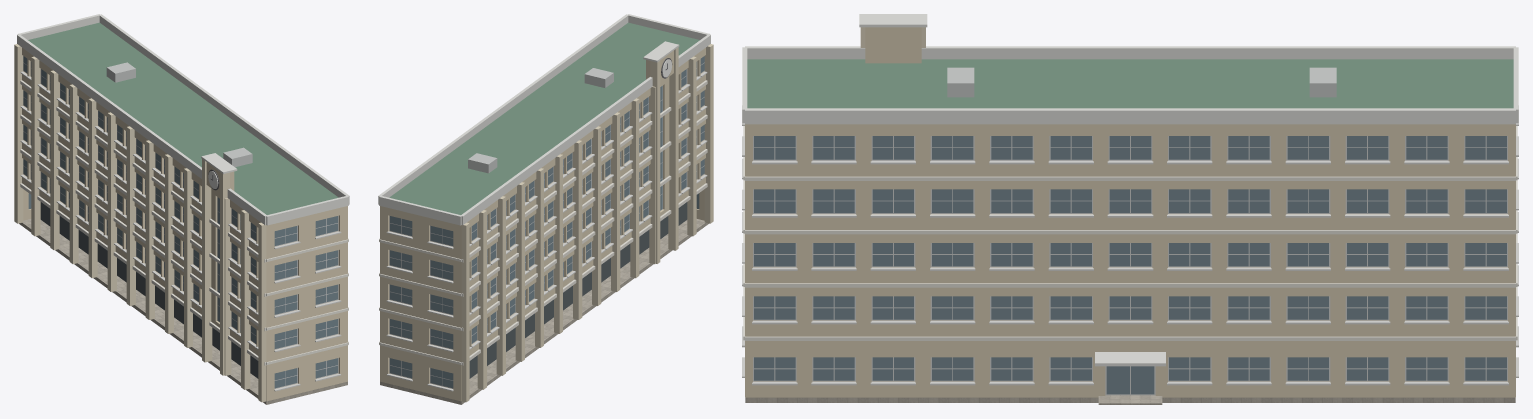
3 renders of one model, left to right at view 1: azimuth 30°, elevation 25°; view 2: azimuth 150°, elevation 25°; view 3: azimuth 270°, elevation 25°, orthographic. The views are drawn at different scales.
Parts seen in each view (by area): view 1: main-west__pier, main-west__paint, main-west__roof, main-west__glass, main-west__cap, main-west__band, main-west__stone, main-west__sill, main-west__frame, main-west__pilotis-glass, main-west__plant, main-west__stairglass; view 2: main-west__pier, main-west__paint, main-west__roof, main-west__glass, main-west__cap, main-west__band, main-west__stone, main-west__sill, main-west__frame, main-west__pilotis-glass, main-west__plant, main-west__stairglass; view 3: main-west__paint, main-west__glass, main-west__roof, main-west__cap, main-west__frame, main-west__band, main-west__sill, main-west__stone, main-west__plant.
Part boxes in pixels (left/top/right/bottom): main-west__pier: left=14, top=44, right=266, bottom=402; main-west__paint: left=22, top=48, right=347, bottom=401; main-west__roof: left=28, top=22, right=338, bottom=214; main-west__glass: left=23, top=56, right=337, bottom=388; main-west__cap: left=17, top=14, right=349, bottom=225; main-west__band: left=20, top=80, right=348, bottom=365; main-west__stone: left=19, top=219, right=347, bottom=404; main-west__sill: left=20, top=71, right=341, bottom=391; main-west__frame: left=23, top=61, right=338, bottom=388; main-west__pilotis-glass: left=40, top=202, right=258, bottom=378; main-west__plant: left=106, top=62, right=252, bottom=167; main-west__stairglass: left=217, top=197, right=219, bottom=321; main-west__pier: left=461, top=44, right=713, bottom=402; main-west__paint: left=380, top=48, right=705, bottom=401; main-west__roof: left=389, top=22, right=699, bottom=214; main-west__glass: left=390, top=56, right=704, bottom=388; main-west__cap: left=378, top=14, right=710, bottom=225; main-west__band: left=379, top=80, right=707, bottom=365; main-west__stone: left=380, top=219, right=708, bottom=404; main-west__sill: left=386, top=71, right=707, bottom=391; main-west__frame: left=389, top=61, right=704, bottom=388; main-west__pilotis-glass: left=469, top=202, right=687, bottom=378; main-west__plant: left=468, top=68, right=613, bottom=173; main-west__stairglass: left=660, top=86, right=662, bottom=210; main-west__paint: left=745, top=27, right=1515, bottom=397; main-west__glass: left=754, top=136, right=1506, bottom=394; main-west__roof: left=747, top=59, right=1513, bottom=108; main-west__cap: left=742, top=14, right=1518, bottom=366; main-west__frame: left=753, top=136, right=1507, bottom=395; main-west__band: left=743, top=126, right=1517, bottom=340; main-west__sill: left=742, top=105, right=1518, bottom=385; main-west__stone: left=745, top=397, right=1515, bottom=402; main-west__plant: left=947, top=67, right=1336, bottom=97.
Size of the model in its own units: 11 by 21.13 by 46.16.
Materials: 15 (1 with a texture image).
